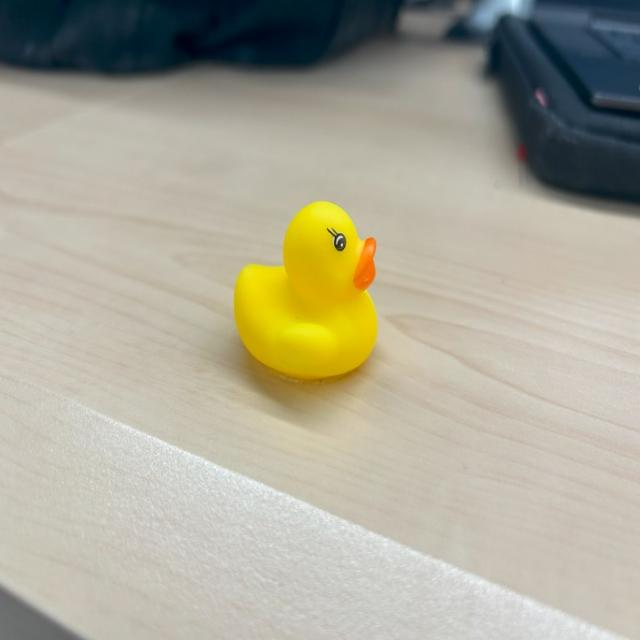duck_regular: (226, 175, 392, 404)
